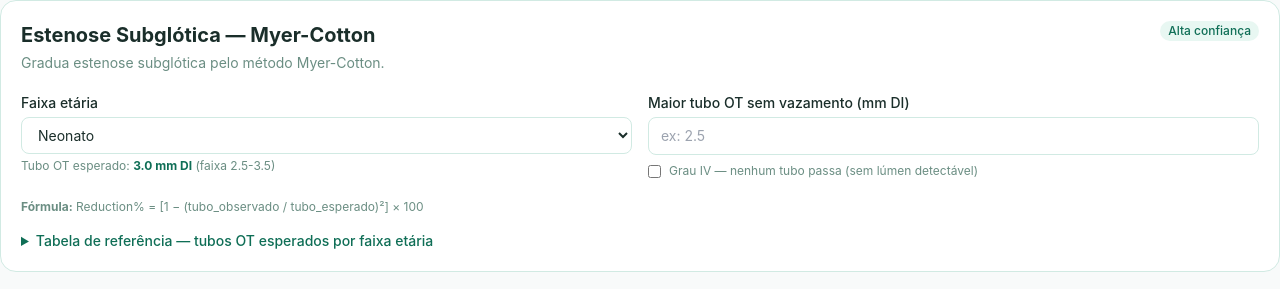
Test: MyCottonCalculator — interação › selecionar faixa etária exibe expected_id_mm esperado
Select "Escolar" in the dropdown labelled "Faixa etária Tubo OT esperado: 3.0 mm DI (faixa 2.5-3.5)". click: x=326, y=136
box: top-left (21, 117), bottom-right (632, 154)
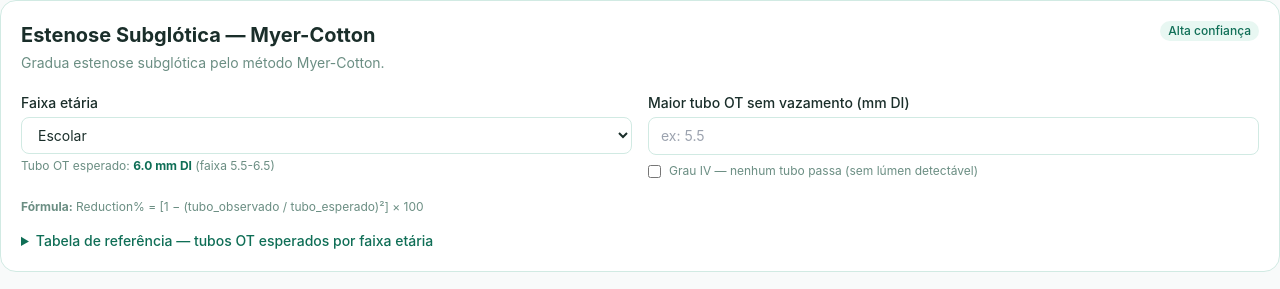
Check: the text "6.0 mm DI" is shown, box top-left (133, 158), bottom-right (192, 173)
